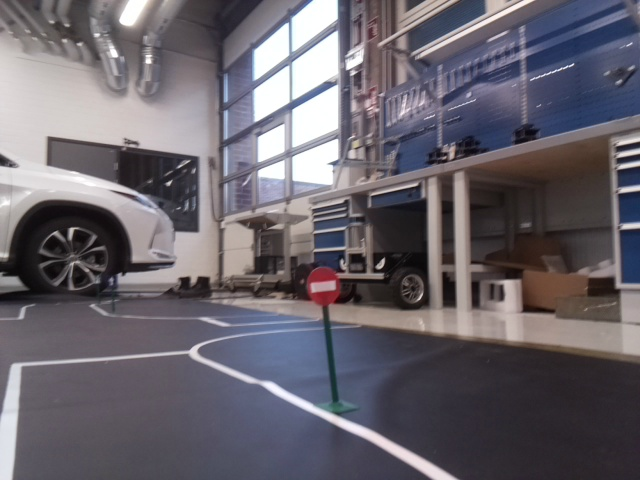NoEntry: (305, 265, 339, 306)
